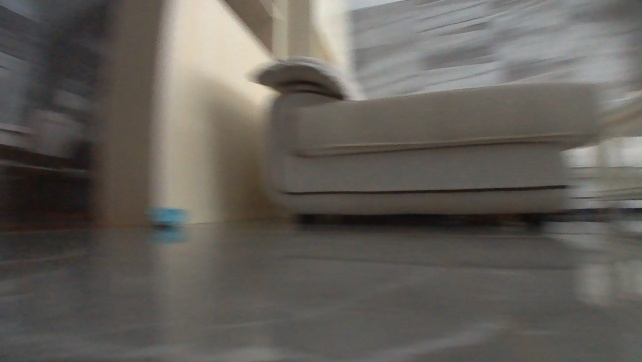sofa1: (244, 51, 641, 231)
